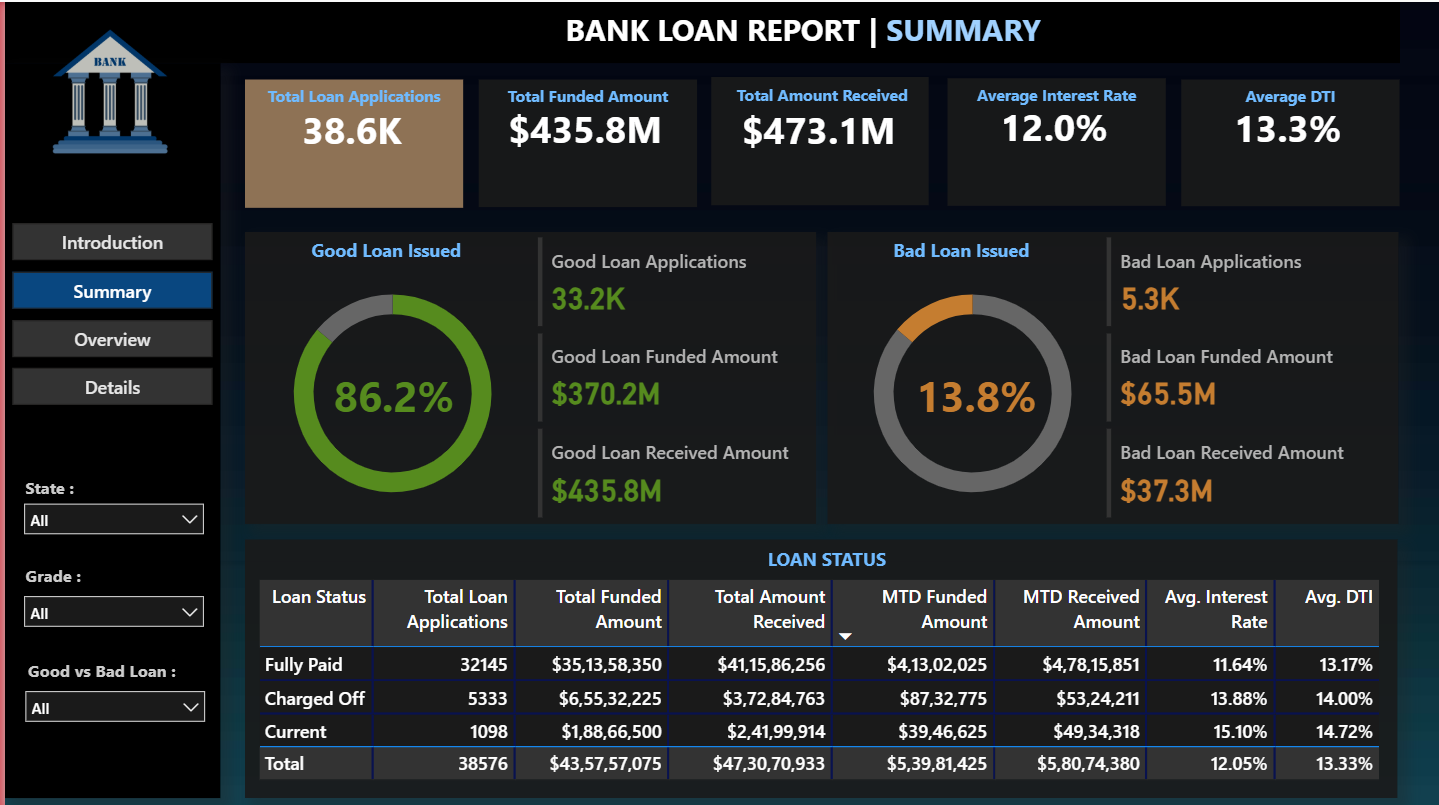

The page's visual inventory and layout, read from the dashboard file:
{"tool":"powerbi","page":{"name":"Summary","canvas":[1280,720],"ordinal":1},"visuals":[{"type":"shape","box":[629.2,66.4,193.8,114.2],"z":0,"group":"g3"},{"type":"shape","box":[839.7,67.5,194.5,114],"z":0,"group":"g4"},{"type":"shape","box":[214.3,68.6,194.3,114.3],"z":0,"group":"g1"},{"type":"shape","box":[421.4,68.6,194.5,114],"z":0,"group":"g2"},{"type":"shape","box":[1047.1,68.6,194.5,113.1],"z":0,"group":"g5"},{"type":"shape","box":[214.3,204.3,508.6,260],"z":0},{"type":"card","fields":{"Values":["table_measures.avg_interest_rate"]},"box":[851.5,82.1,165.9,58.4],"z":1000,"group":"g4"},{"type":"card","fields":{"Values":["table_measures.avg_DTI"]},"box":[1058.9,83.1,165.9,57.9],"z":1000,"group":"g5"},{"type":"card","fields":{"Values":["table_measures.total_loan_appl"]},"box":[247.2,83.2,124.3,61.3],"z":1000,"group":"g1"},{"type":"card","fields":{"Values":["table_measures.total_funded_amt"]},"box":[433.2,83.2,165.9,58.4],"z":1000,"group":"g2"},{"type":"card","fields":{"Values":["table_measures.total_received_amt"]},"box":[643.2,85.3,163.1,55.8],"z":1000,"group":"g3"},{"type":"donutChart","fields":{"Category":["financial_loan.Good vs Band Loan"],"Y":["table_measures.total_loan_appl"]},"box":[220,234.3,250,230],"z":1000},{"type":"shape","box":[0,0,1242.3,54.5],"z":2000},{"type":"textbox","box":[632.2,67,191,41.6],"z":2000,"group":"g3"},{"type":"textbox","box":[839.7,67.5,194.5,38.9],"z":2000,"group":"g4"},{"type":"textbox","box":[214.3,68.6,194.3,39],"z":2000,"group":"g1"},{"type":"textbox","box":[421.4,68.6,194.5,38.9],"z":2000,"group":"g2"},{"type":"textbox","box":[1047.1,68.6,194.5,38.6],"z":2000,"group":"g5"},{"type":"shape","box":[0,54.7,191.9,654.7],"z":3000},{"type":"textbox","box":[13.8,417,119.7,38.5],"z":4000},{"type":"textbox","box":[235.7,204.3,207.1,34.3],"z":5000},{"type":"card","fields":{"Values":["table_measures.good_loan_per"]},"box":[287.1,321.4,118.6,57.1],"z":6000},{"type":"textbox","box":[494.2,1.2,462.8,50],"z":7000},{"type":"group","id":"g1","title":"Group 1","box":[214.3,68.6,194.3,114.3],"z":8000},{"type":"group","id":"g2","title":"Group 1","box":[421.4,68.6,194.5,114],"z":9000},{"type":"group","id":"g3","title":"Group 1","box":[629.2,66.4,194,114.2],"z":10000},{"type":"group","id":"g4","title":"Group 1","box":[839.7,67.5,194.5,114],"z":11000},{"type":"group","id":"g5","title":"Group 1","box":[1047.1,68.6,194.5,113.1],"z":12000},{"type":"shape","box":[732.9,204.3,508.6,260],"z":13000},{"type":"cardVisual","fields":{"Data":["table_measures.good_loan_appl","table_measures.good_loan_funded_amt","table_measures.good_loan_received_amt"]},"box":[470,204.3,252.9,260],"z":14000},{"type":"donutChart","fields":{"Category":["financial_loan.Good vs Band Loan"],"Y":["table_measures.total_loan_appl"]},"box":[737.1,234.3,250,230],"z":15000},{"type":"card","fields":{"Values":["table_measures.bad_loan_per"]},"box":[805.7,321.4,118.6,57.1],"z":16000},{"type":"textbox","box":[748.6,204.3,207.1,34.3],"z":17000},{"type":"cardVisual","fields":{"Data":["table_measures.bad_loan_appl","table_measures.bad_loan_funded_amt","table_measures.bad_loan_received_amt"]},"box":[975.7,204.3,252.9,260],"z":18000},{"type":"shape","box":[214,479.1,1026.7,230.2],"z":19000},{"type":"tableEx","fields":{"Values":["financial_loan.loan_status","table_measures.total_loan_appl","table_measures.total_funded_amt","table_measures.total_received_amt","table_measures.MTD_funded_amt","table_measures.MTD_received_amt","table_measures.avg_interest_rate","table_measures.avg_DTI"]},"box":[220.4,509.8,1008.5,200.4],"z":20000},{"type":"textbox","box":[646.8,479.8,170.3,34.5],"z":21000},{"type":"slicer","fields":{"Values":["financial_loan.address_state"]},"box":[6.9,436.3,180.3,50.9],"z":22000},{"type":"slicer","fields":{"Values":["financial_loan.grade"]},"box":[6.9,518.9,180.3,50.9],"z":23000},{"type":"textbox","box":[13.8,495.5,119.7,38.5],"z":24000},{"type":"pageNavigator","box":[6.9,196.8,178.9,163.8],"z":25000},{"type":"image","box":[0,1.4,187.2,156.9],"z":26000},{"type":"slicer","fields":{"Values":["financial_loan.Good vs Band Loan"]},"box":[8.3,602.8,180.3,50.9],"z":27000},{"type":"textbox","box":[15.1,579.4,163.8,38.5],"z":28000}]}

Visuals, with their boxes in screenshot pixels (x1, y1, x2, y2), scaled from the page's 1280x720 canvas onto the 1439x805 screenshot:
shape: [left=707, top=74, right=925, bottom=202]
shape: [left=944, top=75, right=1163, bottom=203]
shape: [left=241, top=77, right=459, bottom=204]
shape: [left=474, top=77, right=692, bottom=204]
shape: [left=1177, top=77, right=1396, bottom=203]
shape: [left=241, top=228, right=813, bottom=519]
card - table_measures.avg_interest_rate: [left=957, top=92, right=1144, bottom=157]
card - table_measures.avg_DTI: [left=1190, top=93, right=1377, bottom=158]
card - table_measures.total_loan_appl: [left=278, top=93, right=418, bottom=162]
card - table_measures.total_funded_amt: [left=487, top=93, right=674, bottom=158]
card - table_measures.total_received_amt: [left=723, top=95, right=906, bottom=158]
donutChart - financial_loan.Good vs Band Loan x table_measures.total_loan_appl: [left=247, top=262, right=528, bottom=519]
shape: [left=0, top=0, right=1397, bottom=61]
textbox: [left=711, top=75, right=925, bottom=121]
textbox: [left=944, top=75, right=1163, bottom=119]
textbox: [left=241, top=77, right=459, bottom=120]
textbox: [left=474, top=77, right=692, bottom=120]
textbox: [left=1177, top=77, right=1396, bottom=120]
shape: [left=0, top=61, right=216, bottom=793]
textbox: [left=16, top=466, right=150, bottom=509]
textbox: [left=265, top=228, right=498, bottom=267]
card - table_measures.good_loan_per: [left=323, top=359, right=456, bottom=423]
textbox: [left=556, top=1, right=1076, bottom=57]
"Group 1" group: [left=241, top=77, right=459, bottom=204]
"Group 1" group: [left=474, top=77, right=692, bottom=204]
"Group 1" group: [left=707, top=74, right=925, bottom=202]
"Group 1" group: [left=944, top=75, right=1163, bottom=203]
"Group 1" group: [left=1177, top=77, right=1396, bottom=203]
shape: [left=824, top=228, right=1396, bottom=519]
cardVisual - table_measures.good_loan_appl x table_measures.good_loan_funded_amt: [left=528, top=228, right=813, bottom=519]
donutChart - financial_loan.Good vs Band Loan x table_measures.total_loan_appl: [left=829, top=262, right=1110, bottom=519]
card - table_measures.bad_loan_per: [left=906, top=359, right=1039, bottom=423]
textbox: [left=842, top=228, right=1074, bottom=267]
cardVisual - table_measures.bad_loan_appl x table_measures.bad_loan_funded_amt: [left=1097, top=228, right=1381, bottom=519]
shape: [left=241, top=536, right=1395, bottom=793]
tableEx - financial_loan.loan_status x table_measures.total_loan_appl: [left=248, top=570, right=1382, bottom=794]
textbox: [left=727, top=536, right=919, bottom=575]
slicer - financial_loan.address_state: [left=8, top=488, right=210, bottom=545]
slicer - financial_loan.grade: [left=8, top=580, right=210, bottom=637]
textbox: [left=16, top=554, right=150, bottom=597]
pageNavigator: [left=8, top=220, right=209, bottom=403]
image: [left=0, top=2, right=210, bottom=177]
slicer - financial_loan.Good vs Band Loan: [left=9, top=674, right=212, bottom=731]
textbox: [left=17, top=648, right=201, bottom=691]
